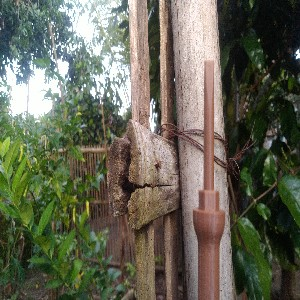obeng: (192, 59, 226, 300)
